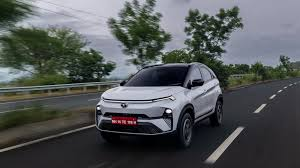Tata Nexon: (92, 60, 224, 149)
